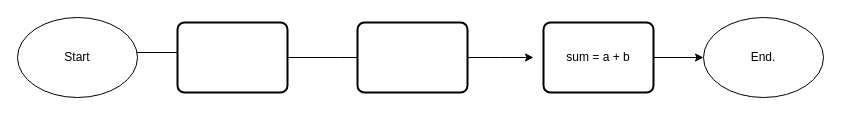
Some shapes in this 841 by 115 pixel diagram are drawn without their labels. Each missing label, with the centre of its shape:
"int sum = 0" goes at (x=412, y=57).
"Nhập a và b" goes at (x=232, y=57).
